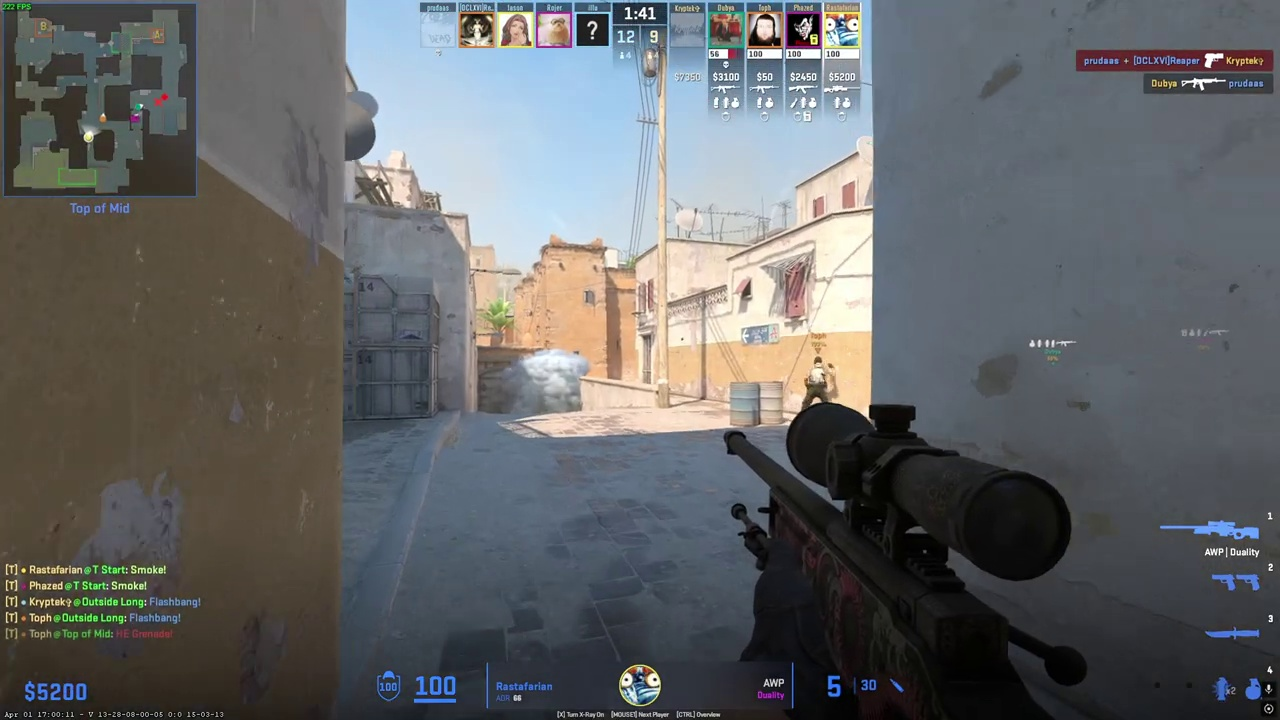Terrorist: (801, 356, 833, 411)
